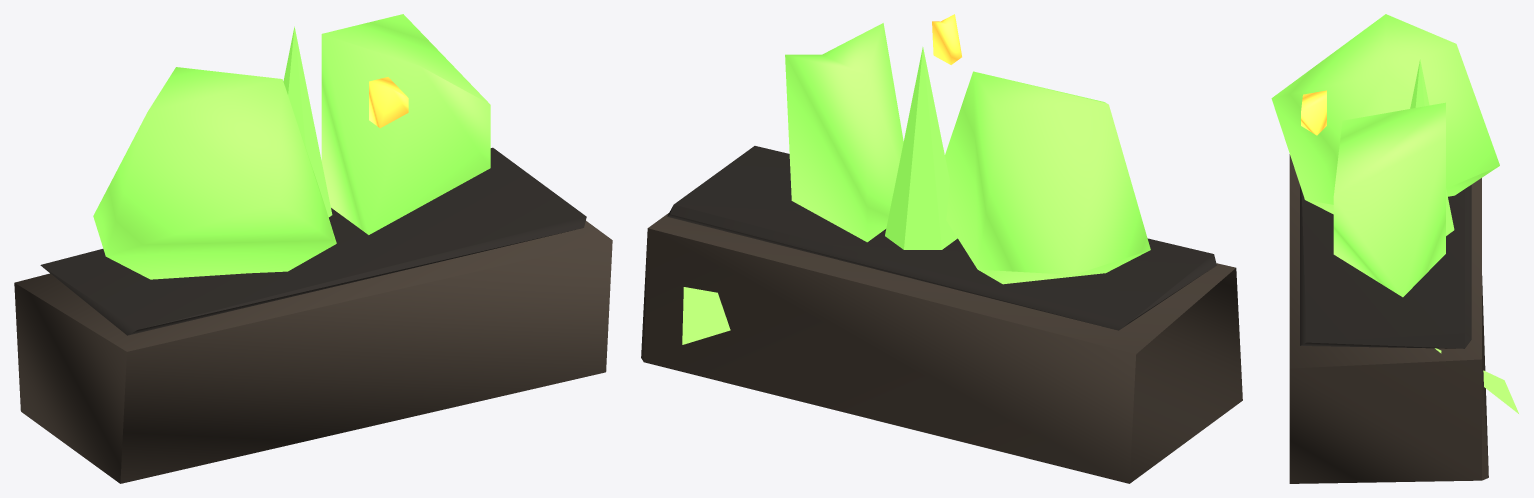
Rendered from vine_planter_lod2.glb.
3 renders of one model, left to right at view 1: azimuth 30°, elevation 25°; view 2: azimuth 150°, elevation 25°; view 3: azimuth 270°, elevation 25°, orthographic. The views are drawn at different scales.
Visible parts, largest first — view 1: prop.vine_planter; view 2: prop.vine_planter; view 3: prop.vine_planter.
Part boxes in pixels (box(x1,y1,x2,y2)): prop.vine_planter: box(14, 14, 612, 483); prop.vine_planter: box(641, 14, 1242, 483); prop.vine_planter: box(1271, 14, 1518, 483).
Size of the model in its own units: 1.32 by 0.9 by 0.6338.
